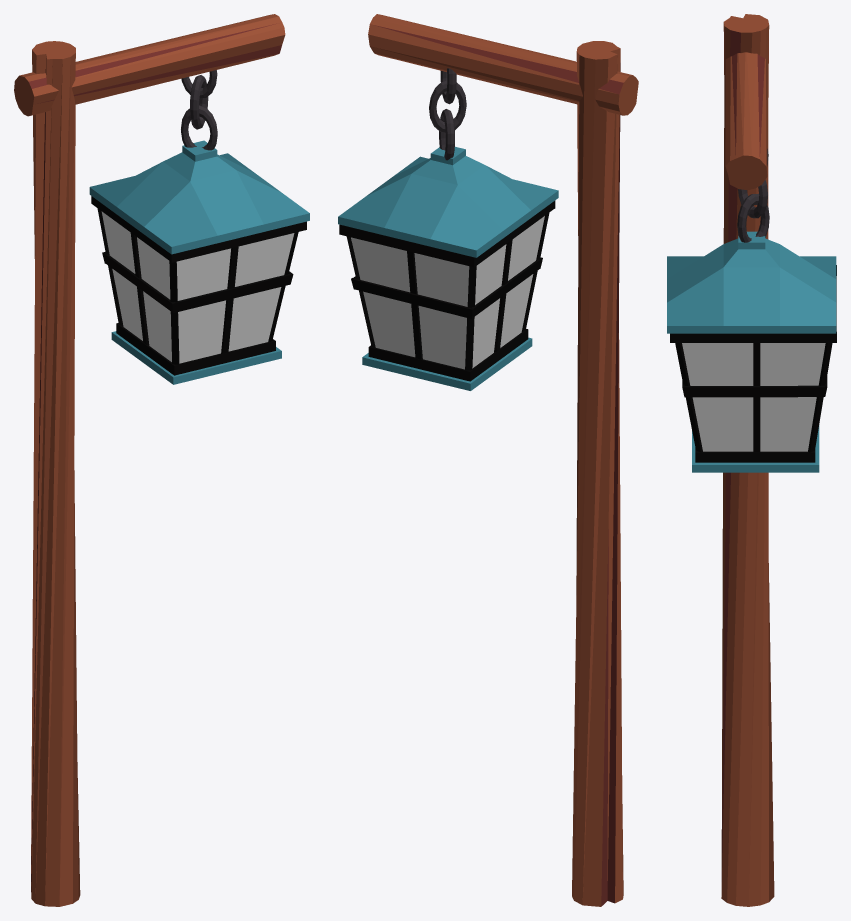
Rendered from small_light_post.fbx.
The picture shows the model from 3 angles, left to right: view 1: azimuth 30°, elevation 25°; view 2: azimuth 150°, elevation 25°; view 3: azimuth 270°, elevation 25°; orthographic projection. The views are drawn at different scales.
Parts seen in each view (by area): view 1: Cylinder, Cylinder.002, Plane.001, Cylinder.001, Cube.014, Torus; view 2: Cylinder, Cylinder.002, Plane.001, Cylinder.001, Cube.014, Torus; view 3: Cylinder, Cylinder.002, Plane.001, Cube.014, Cylinder.001, Torus.
Part boxes in pixels (x1,y1,x2,y2): Cylinder: (31,41,80,906); Cylinder.002: (89,140,309,384); Plane.001: (101,211,294,363); Cylinder.001: (14,14,285,116); Cube.014: (91,196,306,375); Torus: (181,70,217,150); Cylinder: (572,41,623,906); Cylinder.002: (338,146,558,390); Plane.001: (351,216,544,369); Cylinder.001: (368,14,638,115); Cube.014: (339,200,555,381); Torus: (429,68,466,160); Cylinder: (721,14,774,906); Cylinder.002: (667,231,836,472); Plane.001: (682,343,825,451); Cube.014: (670,265,836,462); Cylinder.001: (725,52,767,190); Torus: (737,148,769,242).
Size of the model in its own units: 163 by 520 by 91.65.
